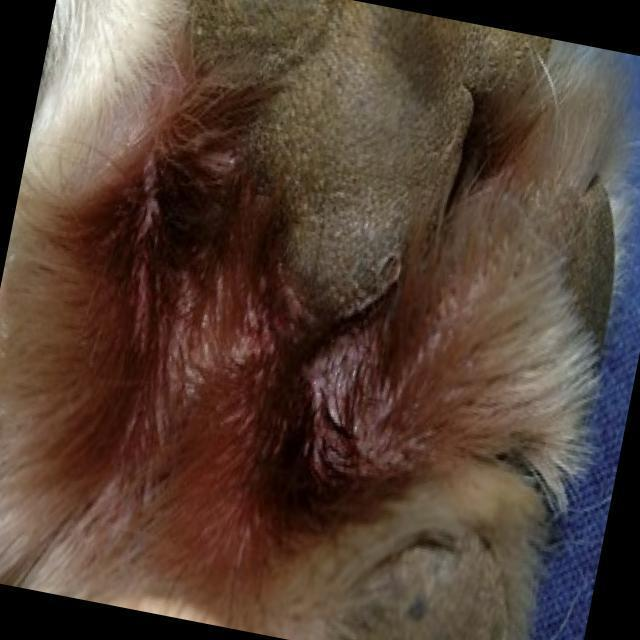allergic dermatitis: (294, 322, 437, 498), (132, 222, 272, 389)
